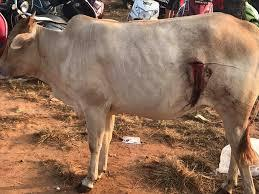cut: (170, 55, 225, 109)
